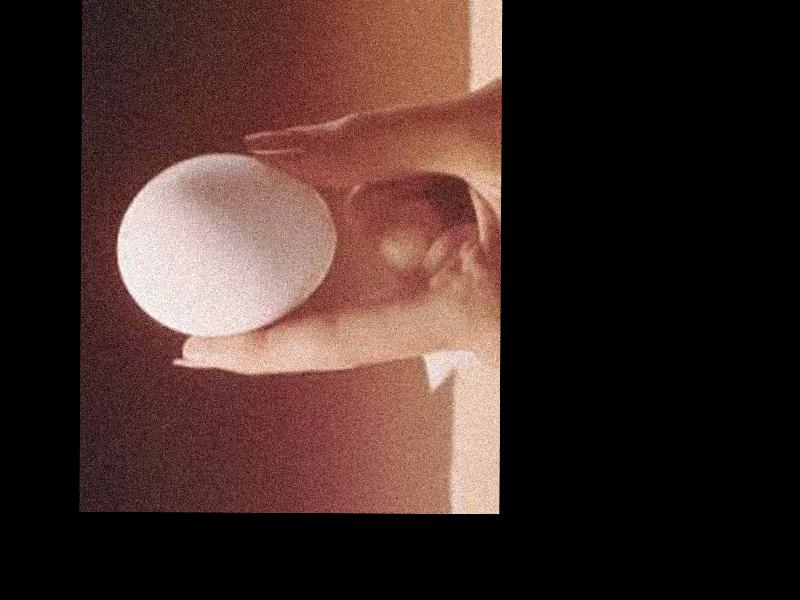Eggs: (115, 151, 337, 339)
